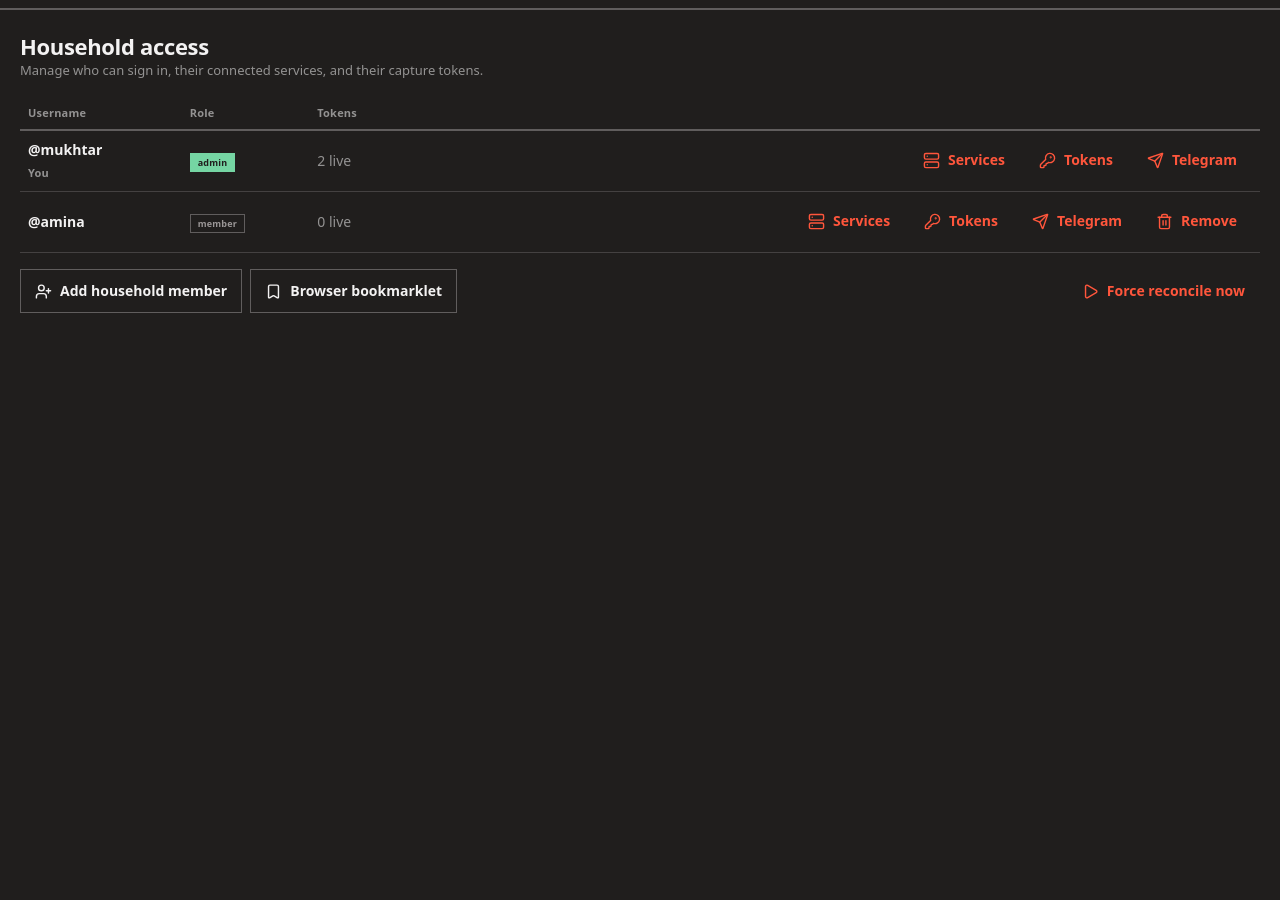
Test case: household › keeps the bookmarklet behind a dialog and a confirmation of its own
What coordinates should you click on to do the following:
click the button "Browser bookmarklet"
I would click on:
 (354, 291)
Its box is [250,269,457,313].
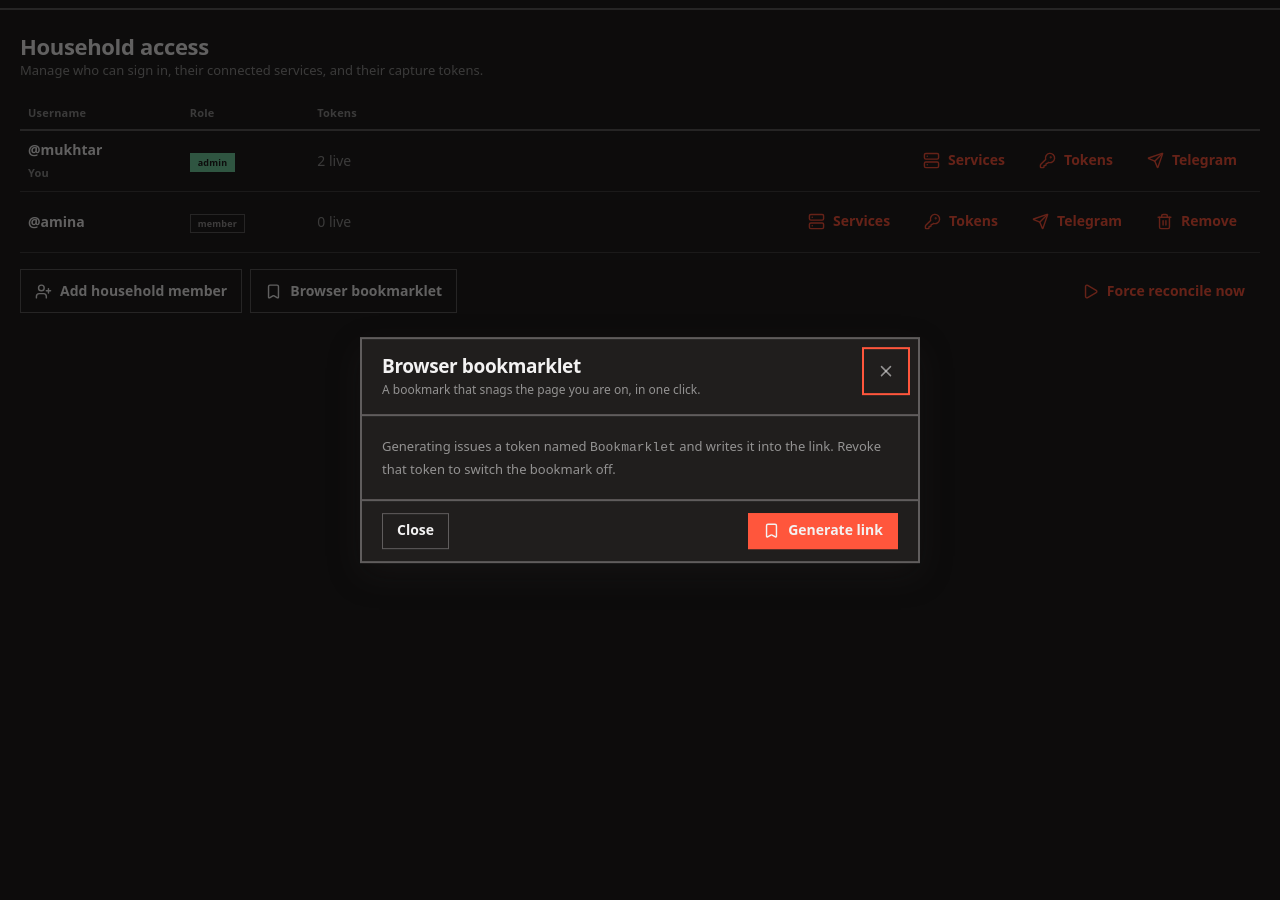
Check: the dialog "Browser bookmarklet" is shown, box [360,337,920,563]
